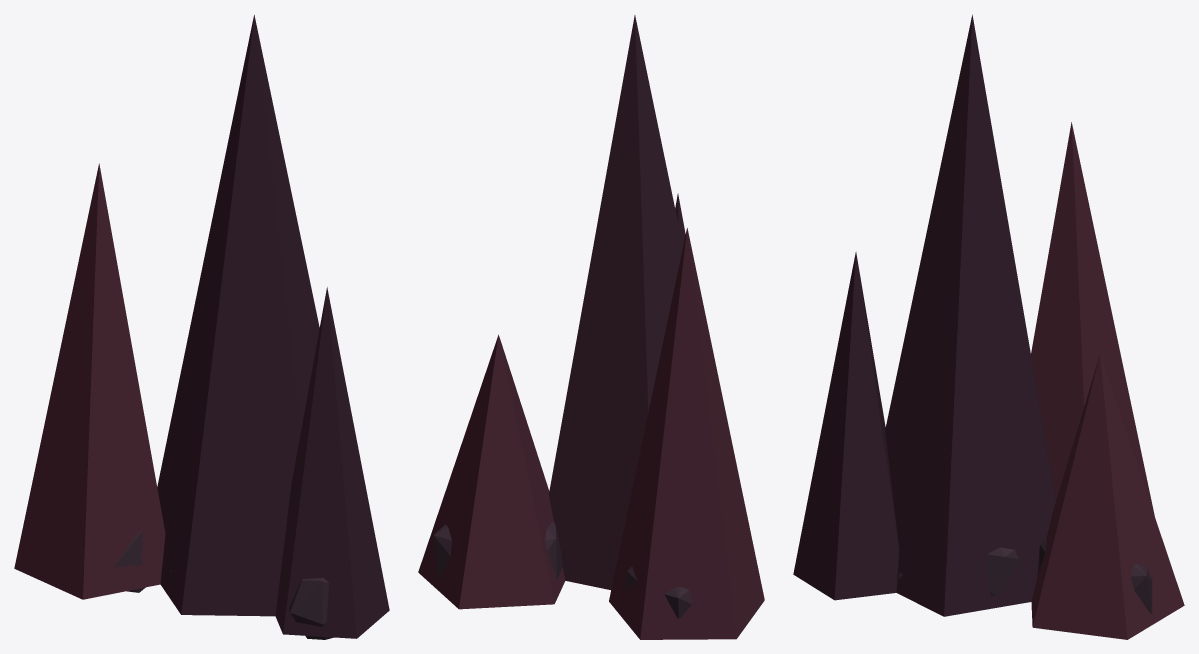
Rendered from FSA_ENV_Arena_Spikes_04.glb.
The picture shows the model from 3 angles, left to right: view 1: azimuth 30°, elevation 25°; view 2: azimuth 150°, elevation 25°; view 3: azimuth 270°, elevation 25°; orthographic projection. The views are drawn at different scales.
Parts seen in each view (by area): view 1: Spike_0, Spike_3, Spike_2, Basalt_2, Basalt_3; view 2: Spike_0, Spike_3, Spike_1, Basalt_1, Basalt_3; view 3: Spike_0, Spike_1, Spike_2, Spike_3, Basalt_0, Basalt_1.
Part boxes in pixels (left/top/right/bottom): Spike_0: left=157, top=15, right=319, bottom=616; Spike_3: left=14, top=163, right=165, bottom=599; Spike_2: left=275, top=287, right=389, bottom=638; Basalt_2: left=289, top=578, right=333, bottom=639; Basalt_3: left=114, top=531, right=145, bottom=592; Spike_0: left=548, top=15, right=682, bottom=589; Spike_3: left=609, top=228, right=764, bottom=639; Spike_1: left=418, top=334, right=565, bottom=609; Basalt_1: left=433, top=522, right=562, bottom=579; Basalt_3: left=626, top=566, right=691, bottom=618; Spike_0: left=885, top=14, right=1055, bottom=616; Spike_1: left=1031, top=354, right=1184, bottom=639; Spike_2: left=793, top=252, right=899, bottom=600; Spike_3: left=1031, top=122, right=1154, bottom=515; Basalt_0: left=897, top=547, right=1018, bottom=595; Basalt_1: left=1037, top=540, right=1152, bottom=613.
Size of what is drawn, in the model's own units: 1.93 by 3.27 by 2.07.
